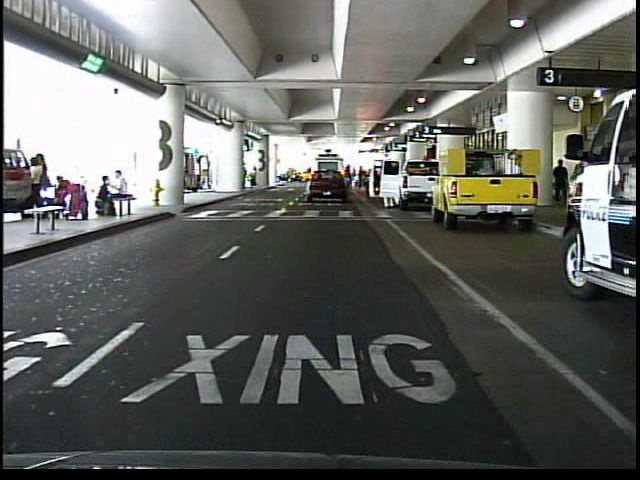person: (548, 155, 572, 209), (249, 166, 261, 191)
